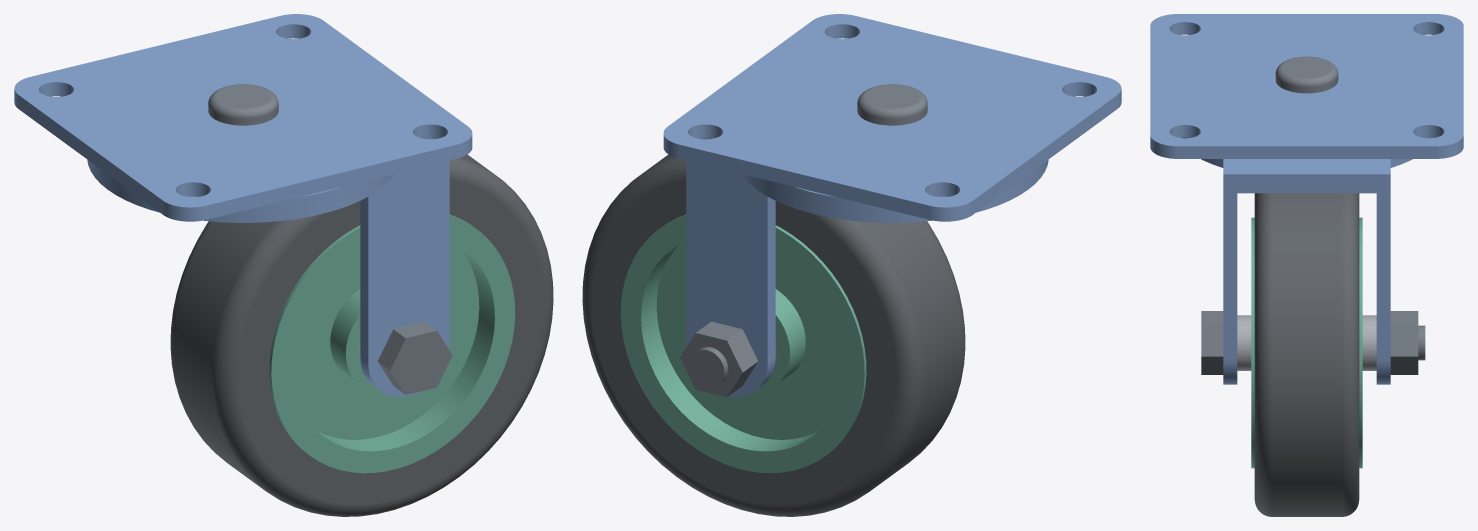
Rendered from step_21.glb.
The picture shows the model from 3 angles, left to right: view 1: azimuth 30°, elevation 25°; view 2: azimuth 150°, elevation 25°; view 3: azimuth 270°, elevation 25°; orthographic projection. The views are drawn at different scales.
Parts seen in each view (by area): view 1: part__top plate, part__tyre, part__wheel centre, part__fork, part__axle bolt M10 x 58, part__king pin rivet; view 2: part__top plate, part__tyre, part__wheel centre, part__fork, part__nut M10, part__king pin rivet, part__axle bolt M10 x 58; view 3: part__top plate, part__tyre, part__fork, part__wheel centre, part__king pin rivet, part__nut M10, part__axle bolt M10 x 58, part__spacer 1, part__spacer 2.
Boxes of the visible parts, x1,y1,x2,y2 form: part__top plate: (14, 14, 472, 221); part__tyre: (170, 154, 553, 516); part__wheel centre: (269, 215, 515, 473); part__fork: (87, 138, 449, 397); part__axle bolt M10 x 58: (377, 321, 452, 394); part__king pin rivet: (208, 84, 278, 125); part__top plate: (663, 14, 1121, 221); part__tyre: (582, 154, 965, 516); part__wheel centre: (620, 215, 866, 473); part__fork: (686, 138, 1048, 397); part__nut M10: (680, 321, 758, 397); part__king pin rivet: (857, 84, 927, 125); part__axle bolt M10 x 58: (690, 347, 728, 386); part__top plate: (1150, 14, 1463, 158); part__tyre: (1254, 193, 1359, 516); part__fork: (1182, 137, 1431, 384); part__wheel centre: (1251, 217, 1362, 468); part__king pin rivet: (1275, 56, 1338, 93); part__nut M10: (1390, 311, 1418, 374); part__axle bolt M10 x 58: (1201, 311, 1425, 374); part__spacer 1: (1362, 315, 1376, 370); part__spacer 2: (1237, 315, 1251, 370).
Bounding box in the file's own units: 130 × 121 × 90.
